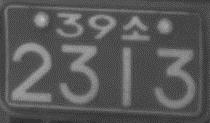1: (110, 46, 145, 108)
2: (10, 41, 51, 104)
3: (154, 46, 196, 109), (59, 43, 100, 105), (55, 11, 83, 38)
9: (87, 13, 117, 40)
소: (121, 14, 150, 41)
